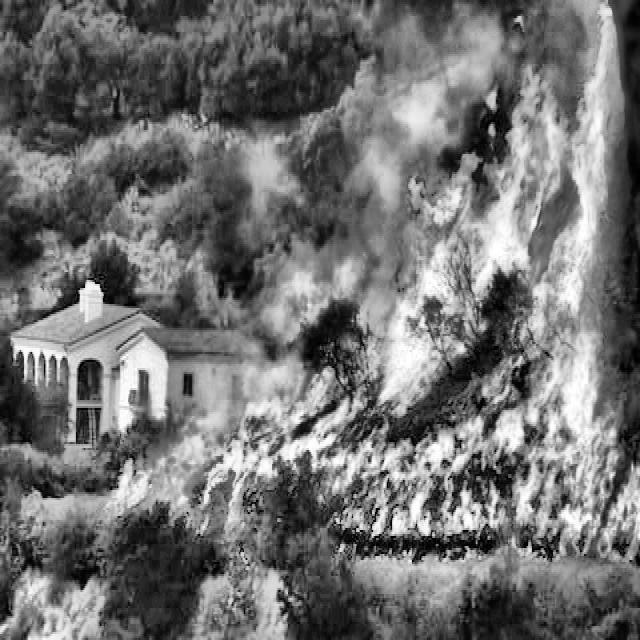fire: (90, 264, 640, 640), (297, 74, 640, 288)
